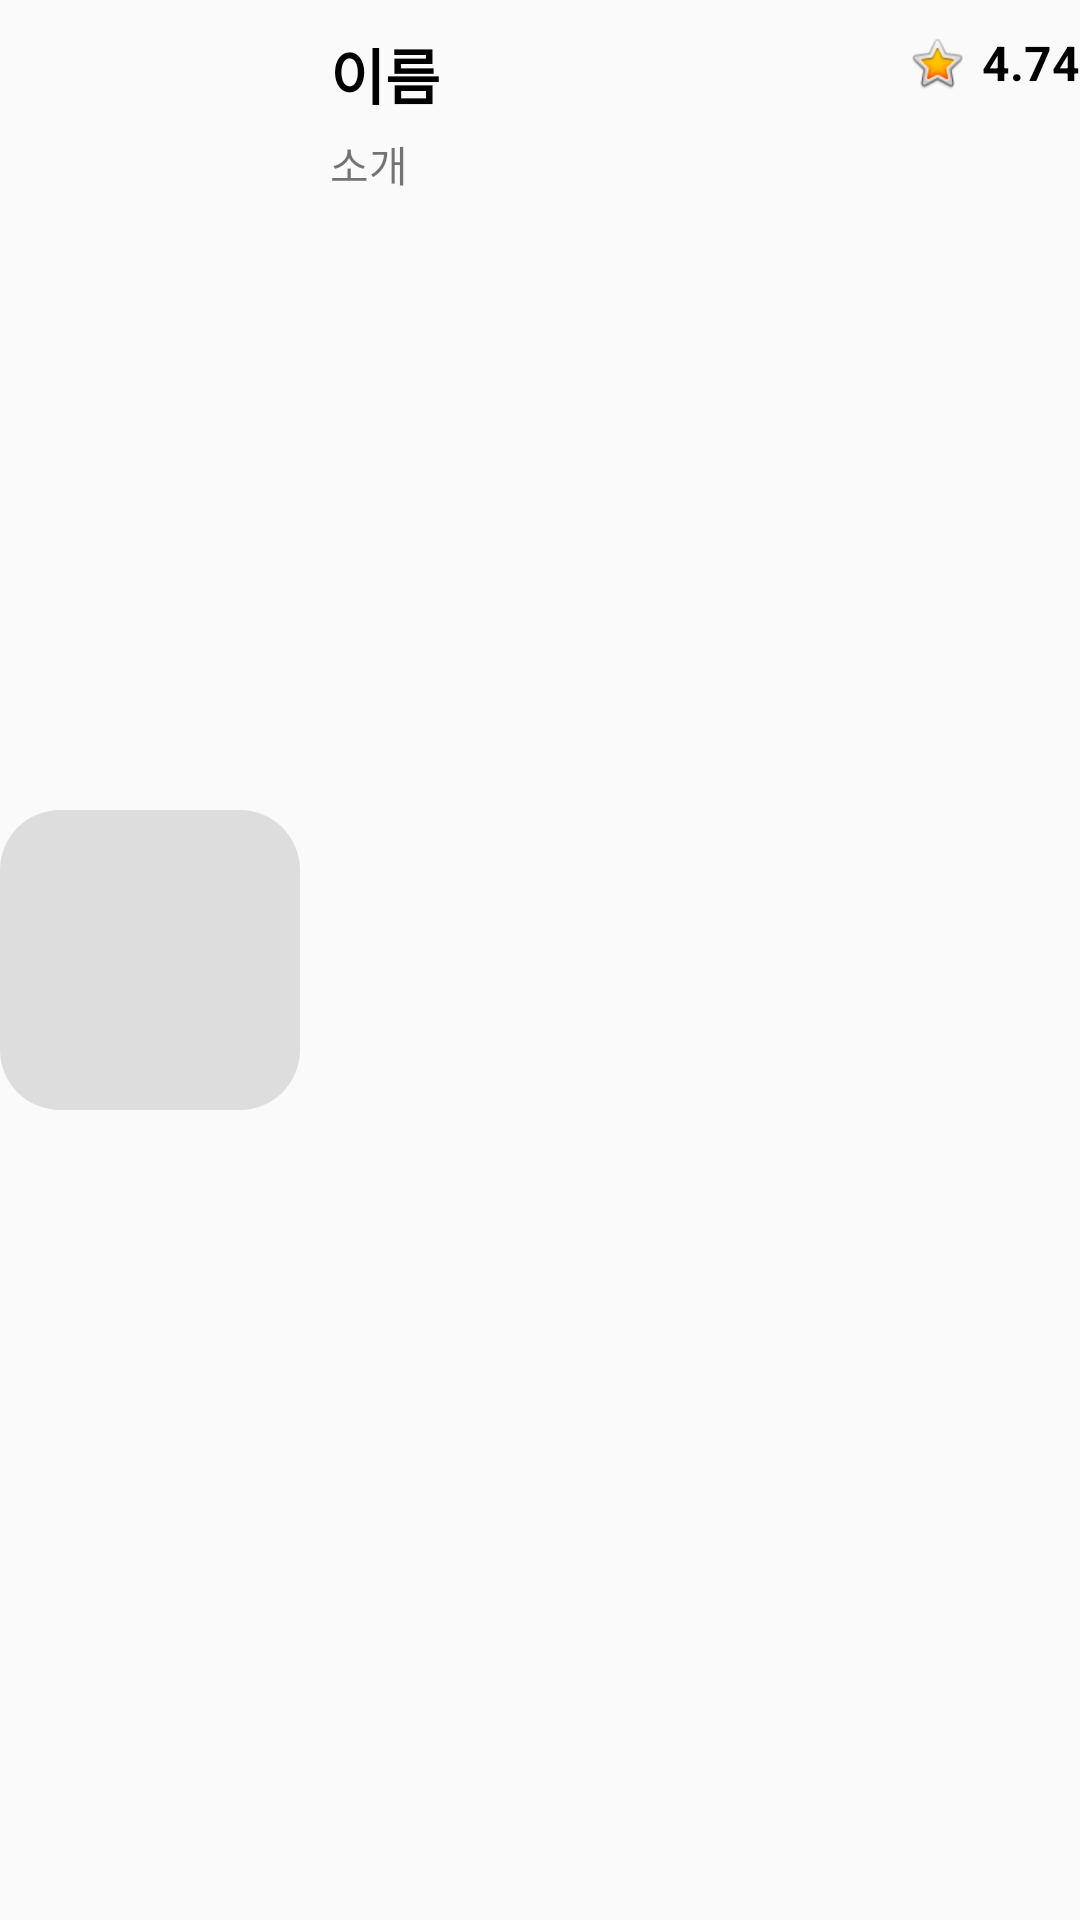

Icons on this 1080×1920 Android screen, each with its box as [x1,y1,x2,y2]:
star on: [912,39,963,88]
